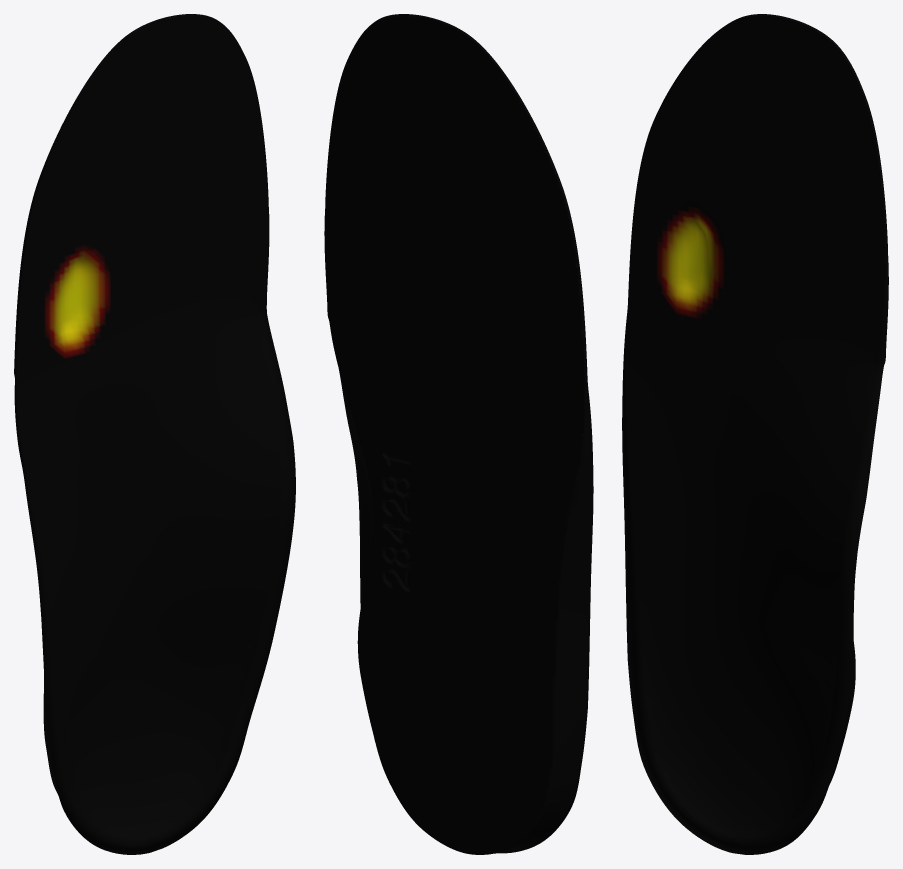
Rendered from PAIR-OFFLOAD-4TH_LEFT.glb.
The picture shows the model from 3 angles, left to right: view 1: azimuth 30°, elevation 25°; view 2: azimuth 150°, elevation 25°; view 3: azimuth 330°, elevation 25°; orthographic projection. The views are drawn at different scales.
Parts seen in each view (by area): view 1: world; view 2: world; view 3: world.
Boxes of the visible parts, x1=… form: world: x1=14, y1=14, x2=295, y2=854; world: x1=324, y1=14, x2=593, y2=854; world: x1=622, y1=14, x2=888, y2=854.
Size of the model in its own units: 93.37 by 283 by 20.55.
